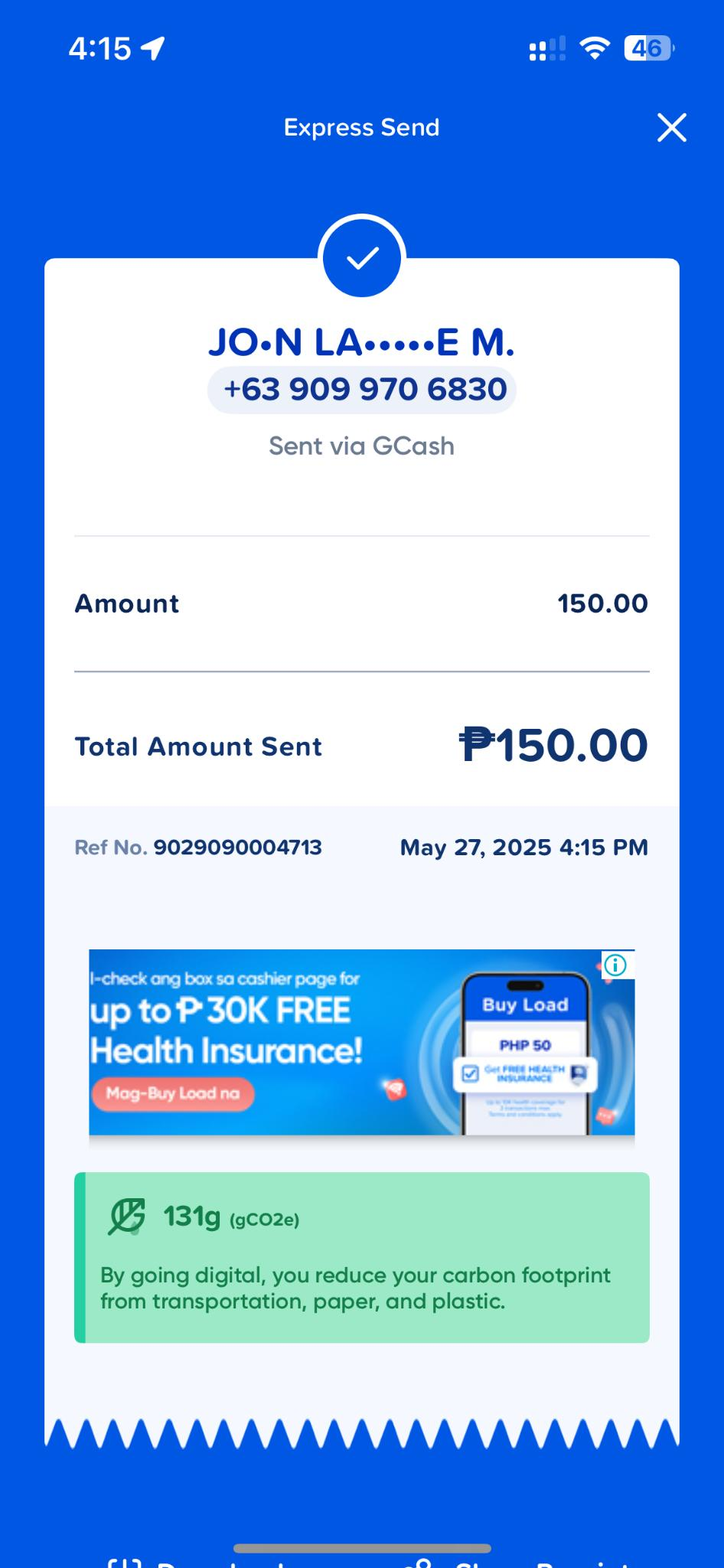Receipt: (0, 73, 724, 1567)
